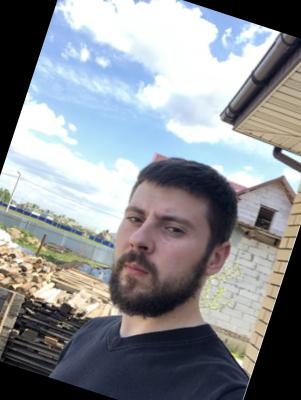without_mask: (94, 190, 210, 330)
